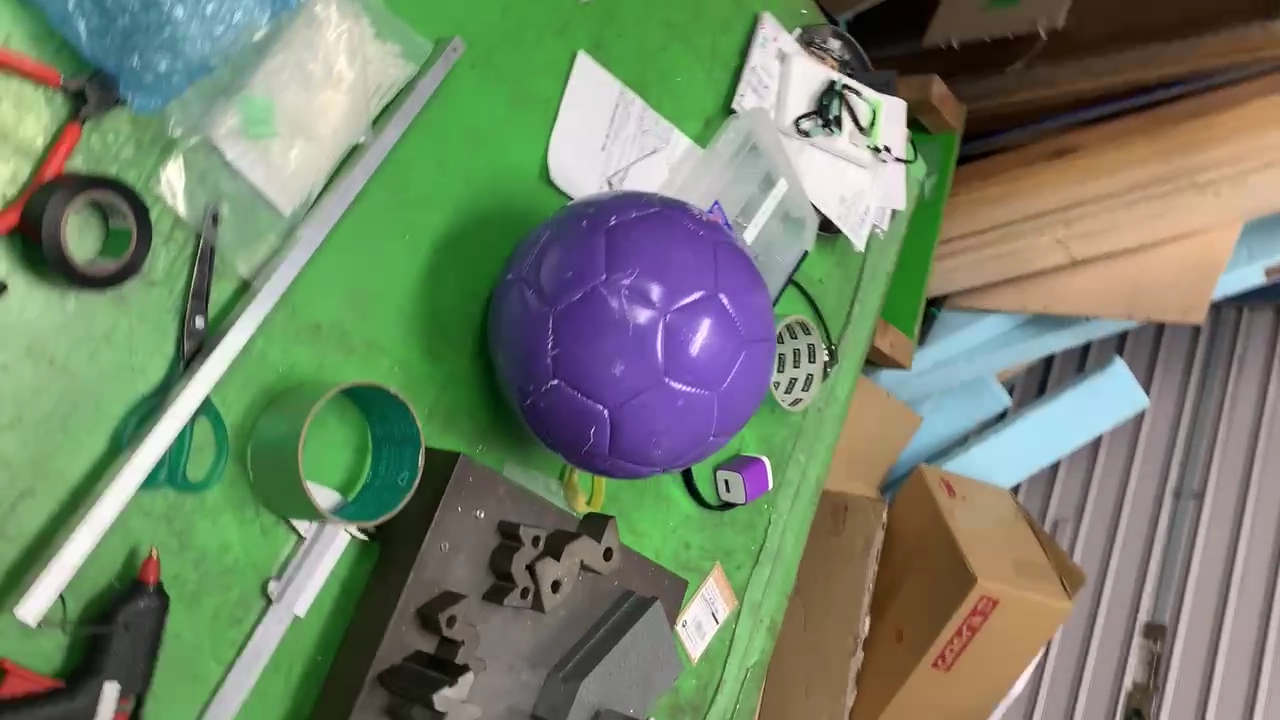purple: (473, 200, 770, 480)
